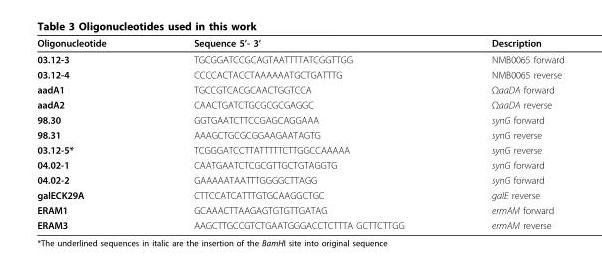table: (36, 36, 563, 230)
table column: (149, 36, 447, 230), (447, 36, 563, 230), (36, 36, 149, 230)
table column header: (36, 36, 563, 50)
table row: (36, 50, 563, 66), (36, 126, 563, 142), (36, 66, 563, 81), (36, 81, 563, 96), (36, 96, 563, 111), (36, 111, 563, 126), (36, 142, 563, 157), (36, 157, 563, 172), (36, 172, 563, 187), (36, 187, 563, 202), (36, 202, 563, 217), (36, 36, 563, 50), (36, 217, 563, 230)
